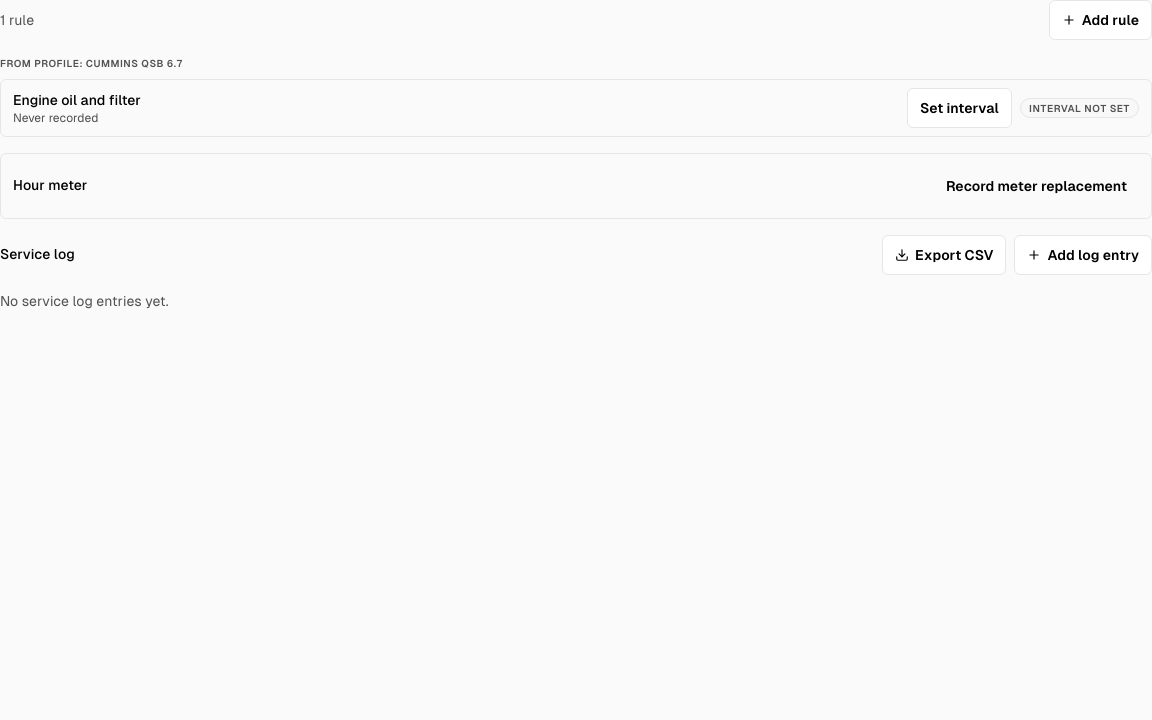
Test: MaintenanceEquipmentBlock › shows Interval not set with an action that opens the job to set it
The width and height of the screenshot is (1152, 720).
Check: the text "Interval not set" is shown, box [1020,98,1139,118]
What coordinates should you click on to do the following:
click the button with aria-label "Set interval for Engine oil and filter"
I would click on:
 (960, 108)
Its box is [907,88,1012,128].
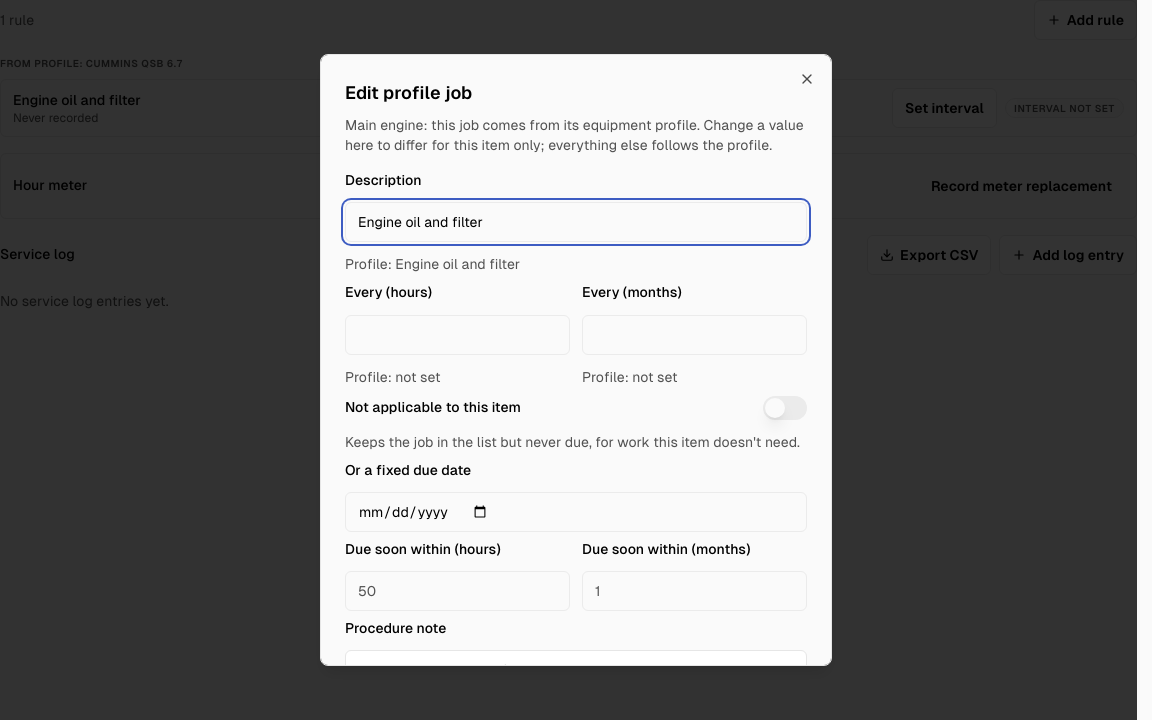
Check: the heading "Edit profile job" is shown, box [345,82,472,103]
